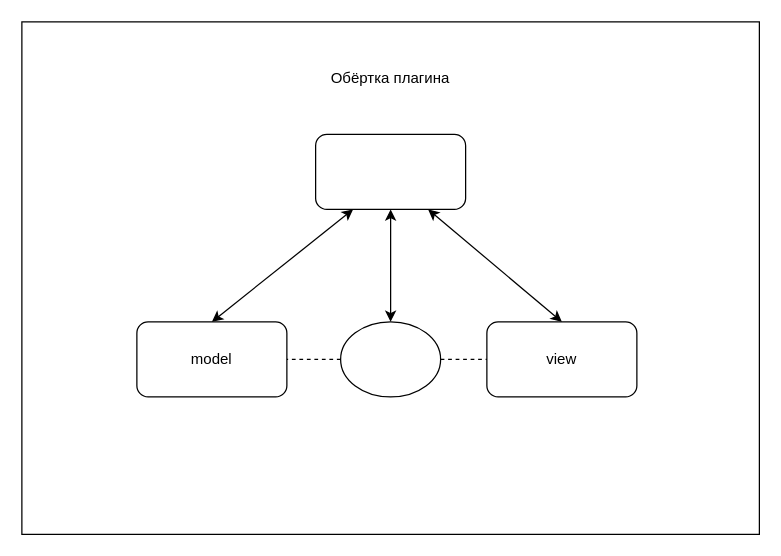
This 781x556 diagram has some shape labels left out. Each missing label, with the box of its shape:
observer: (339, 321, 441, 397)
presenter: (314, 133, 466, 209)
